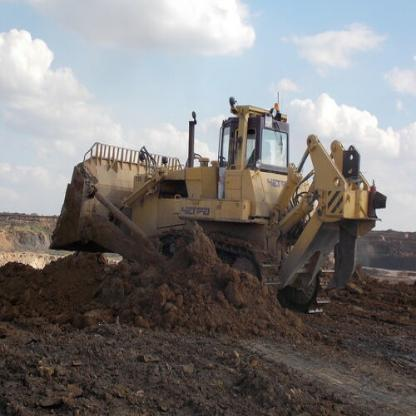bull_dozer/loader/grader: (47, 81, 390, 325)
